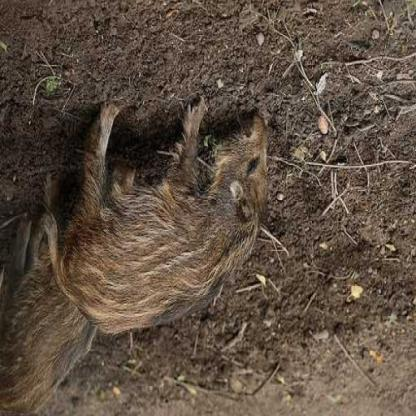boar: (56, 78, 276, 323)
